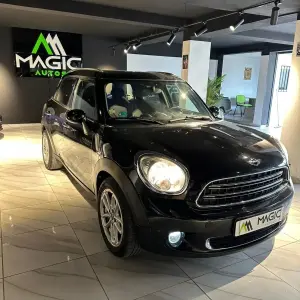dacia: (41, 68, 297, 270)
